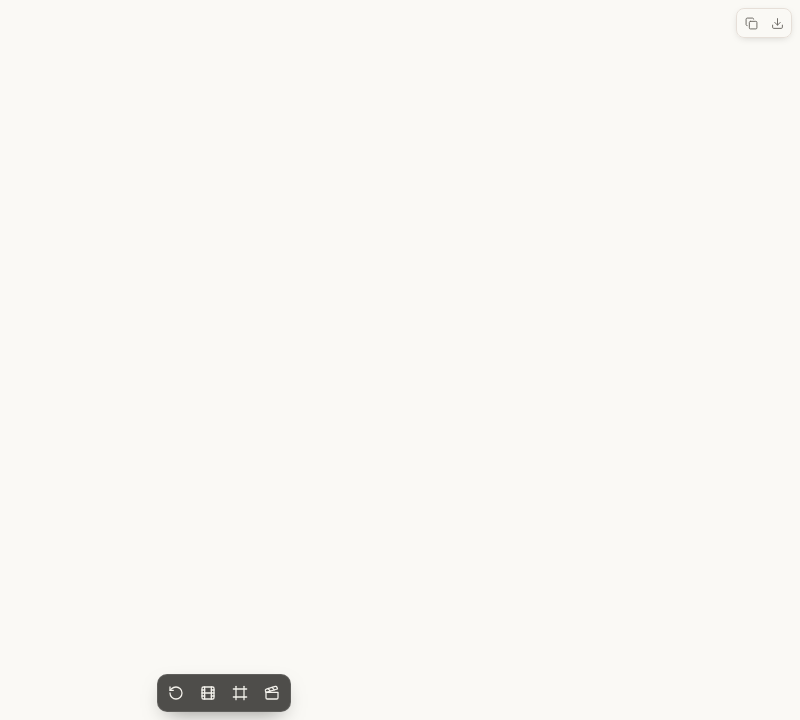
Test case: ChatMediaActions › opens the frame picker with first, last and custom positions
What coordinates should you click on to do the following:
click the button named "获取帧"
I would click on:
 (208, 693)
Its box is [193, 678, 223, 708].
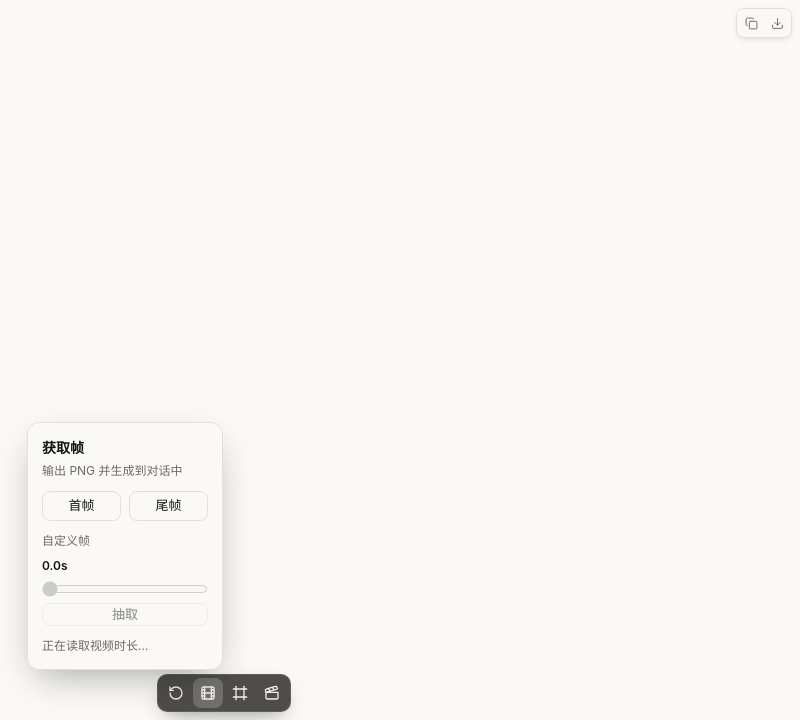
Expected: the button "首帧" is shown, [42, 491, 121, 521]
Expected: the button "尾帧" is shown, [129, 491, 208, 521]
Expected: the text "自定义帧" is shown, [42, 533, 90, 548]
